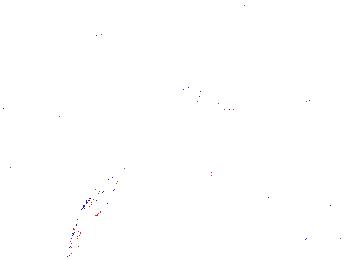X-ray fish: (213, 168, 239, 212)
glassfish: (70, 161, 133, 255), (193, 131, 276, 194)
red belly glassfish: (318, 51, 333, 72)
redtail glassfish: (181, 82, 240, 126)
